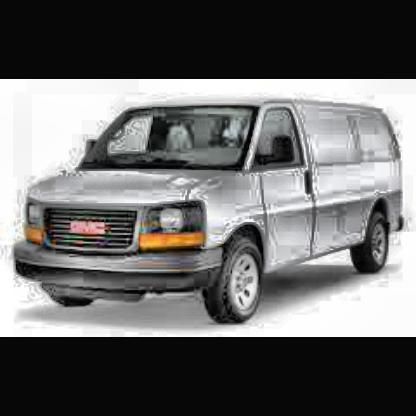GMC Savana Van 2012: (15, 92, 406, 326)
